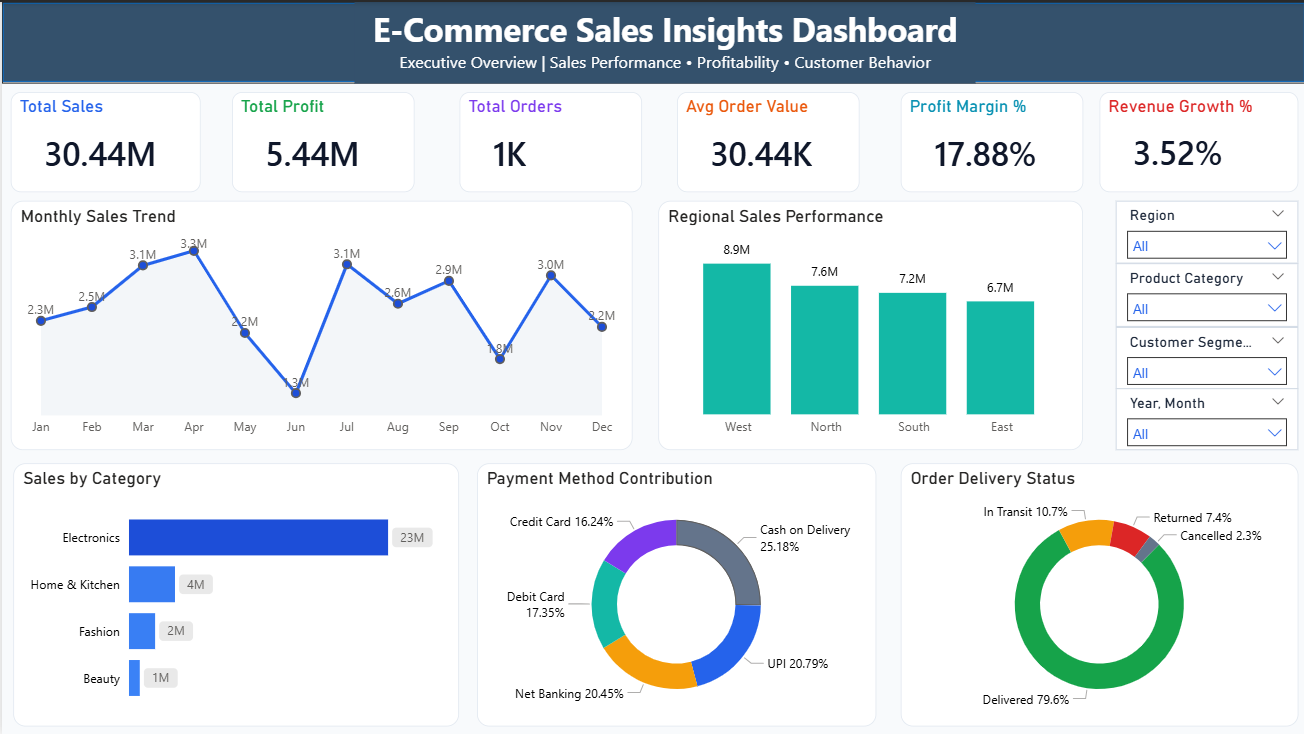

The dashboard page shown, as its layout file describes it:
{"tool":"powerbi","page":{"name":"Executive Overview","canvas":[1280,720],"ordinal":0},"visuals":[{"type":"shape","title":"E-Commerce Sales Insights Dashboard","box":[0,0,1280,79.6],"z":0},{"type":"cardVisual","title":"Total Sales","fields":{"Data":["Measures (3).Total Sales"]},"box":[8.7,88.3,186.6,98.3],"z":1000},{"type":"cardVisual","title":"Total Profit","fields":{"Data":["Measures (3).Total Profit"]},"box":[225.2,88.3,179.1,98.3],"z":2000},{"type":"cardVisual","title":"Total Orders","fields":{"Data":["Measures (3).Total Orders"]},"box":[449.1,88.3,179.1,98.3],"z":3000},{"type":"cardVisual","title":"Avg Order Value","fields":{"Data":["Measures (3).AOV"]},"box":[663,88.3,179.1,98.3],"z":4000},{"type":"cardVisual","title":"Profit Margin %","fields":{"Data":["Measures (3).Profit Margin %"]},"box":[882,88.3,179.1,98.3],"z":5000},{"type":"cardVisual","title":"Revenue Growth %","fields":{"Data":["Measures (3).Revenue Growth %"]},"box":[1077.3,88.3,195.1,98.2],"z":6000},{"type":"lineChart","title":"Monthly Sales Trend","fields":{"Category":["Date Table.Month"],"Y":["Measures (3).Total Sales"]},"box":[8.7,195.3,610.8,245.1],"z":7000},{"type":"clusteredBarChart","title":"Sales by Category","fields":{"Y":["Measures (3).Total Sales"],"Category":["Fact_Sales.Product Category"]},"box":[11.2,452.8,437.9,258.7],"z":8000},{"type":"clusteredColumnChart","title":"Regional Sales Performance","fields":{"Category":["Fact_Sales.Region"],"Y":["Measures (3).Total Sales"]},"box":[644.4,195.3,416.7,245.1],"z":9000},{"type":"donutChart","title":"Payment Method Contribution","fields":{"Y":["Measures (3).Total Sales"],"Category":["Fact_Sales.Payment Method"]},"box":[466.5,452.8,391.8,258.7],"z":10000},{"type":"donutChart","title":"Order Delivery Status","fields":{"Category":["Fact_Sales.Delivery Status"],"Y":["Measures (3).Total Orders"]},"box":[882,452.8,390.6,258.7],"z":11000},{"type":"slicer","fields":{"Values":["Fact_Sales.Region"]},"box":[1093.3,195.1,179.1,61.4],"z":12000},{"type":"slicer","fields":{"Values":["Fact_Sales.Product Category"]},"box":[1093.4,256.3,179.1,62.2],"z":13000},{"type":"slicer","fields":{"Values":["Fact_Sales.Customer Segment"]},"box":[1093.4,318.5,179.1,61],"z":14000},{"type":"slicer","fields":{"Values":["Date Table.Date.Variation.Date Hierarchy.Year","Date Table.Date.Variation.Date Hierarchy.Month"]},"box":[1093.4,379.4,179.1,61],"z":15000},{"type":"textbox","box":[346,0,609.8,79.8],"z":16000}]}

Visuals, with their boxes in screenshot pixels (x1, y1, x2, y2), scaled from the page's 1280x720 canvas onto the 1304x734 screenshot:
"E-Commerce Sales Insights Dashboard" shape: [0,0,1303,81]
"Total Sales" cardVisual: [9,90,199,190]
"Total Profit" cardVisual: [229,90,412,190]
"Total Orders" cardVisual: [458,90,640,190]
"Avg Order Value" cardVisual: [675,90,858,190]
"Profit Margin %" cardVisual: [899,90,1081,190]
"Revenue Growth %" cardVisual: [1097,90,1296,190]
"Monthly Sales Trend" lineChart: [9,199,631,449]
"Sales by Category" clusteredBarChart: [11,462,458,725]
"Regional Sales Performance" clusteredColumnChart: [656,199,1081,449]
"Payment Method Contribution" donutChart: [475,462,874,725]
"Order Delivery Status" donutChart: [899,462,1296,725]
slicer - Fact_Sales.Region: [1114,199,1296,261]
slicer - Fact_Sales.Product Category: [1114,261,1296,325]
slicer - Fact_Sales.Customer Segment: [1114,325,1296,387]
slicer - Date Table.Date.Variation.Date Hierarchy.Year x Date Table.Date.Variation.Date Hierarchy.Month: [1114,387,1296,449]
textbox: [352,0,974,81]
